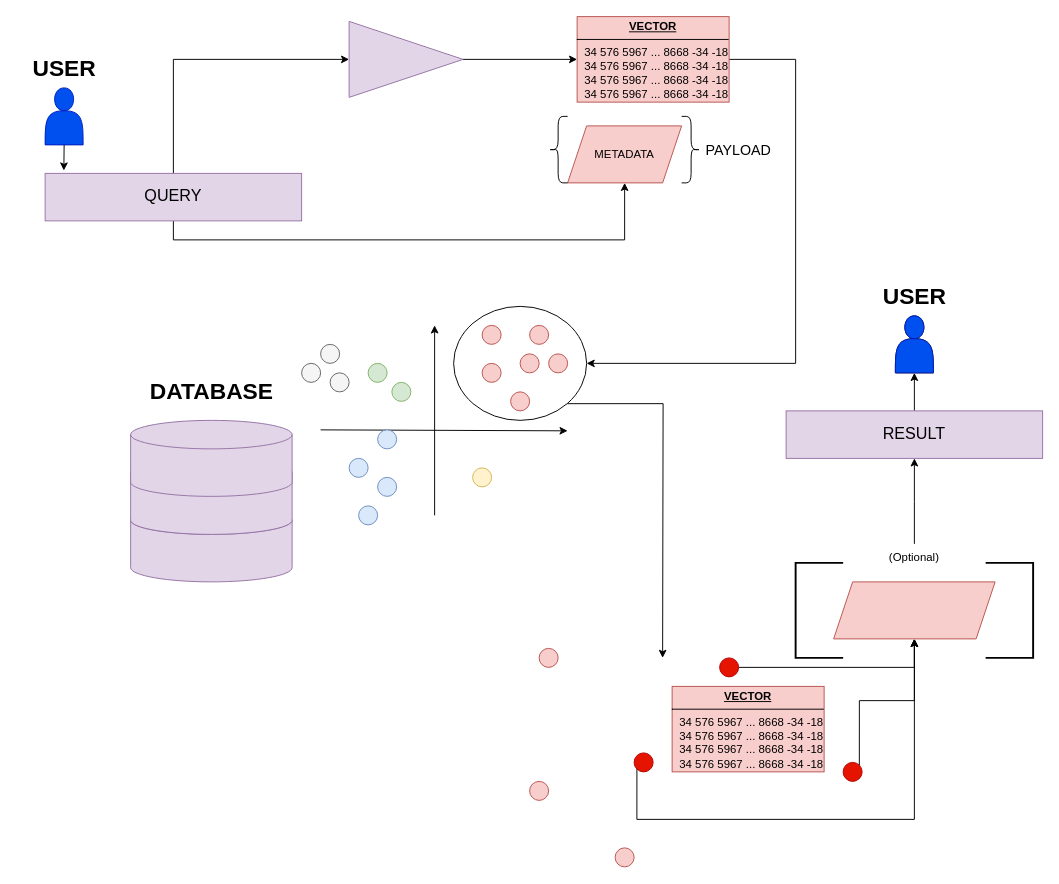
Image size: 1059x884. Some labels were removed from this diagram. The shapes that lost their labels are listed below. From the top down, each one's box as (x1, y1, x2, y2) in pixels, then its label:
(348, 20, 463, 97): ENCODER
(833, 581, 995, 639): METADATA FILTER
